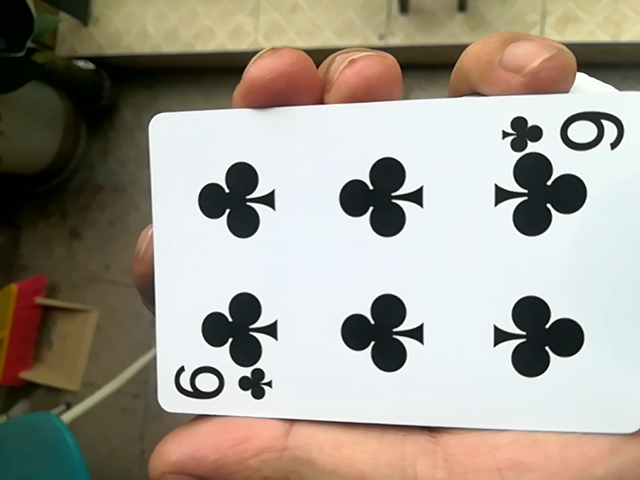mh 6: (138, 96, 633, 445)
